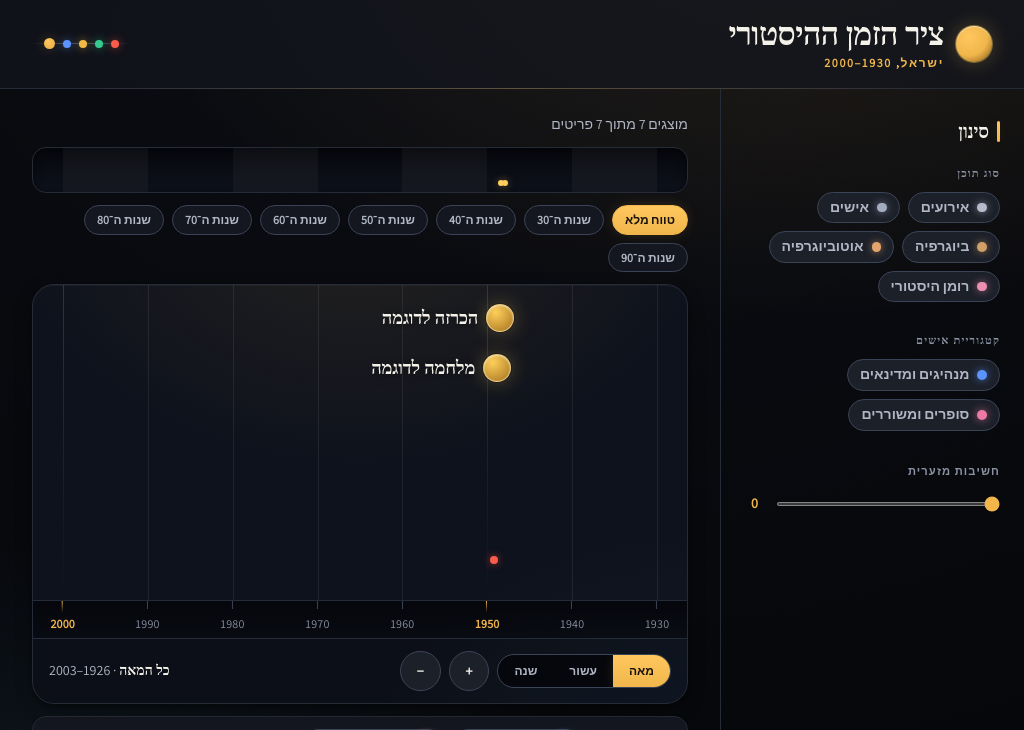
Scenario: FilterBar › toggling the person content-type chip narrows the timeline to people
Expected: the button "מלחמה לדוגמה" is shown, [359,345,511,391]
Click the button "אישים" at (858,208), box [817,192,900,223]
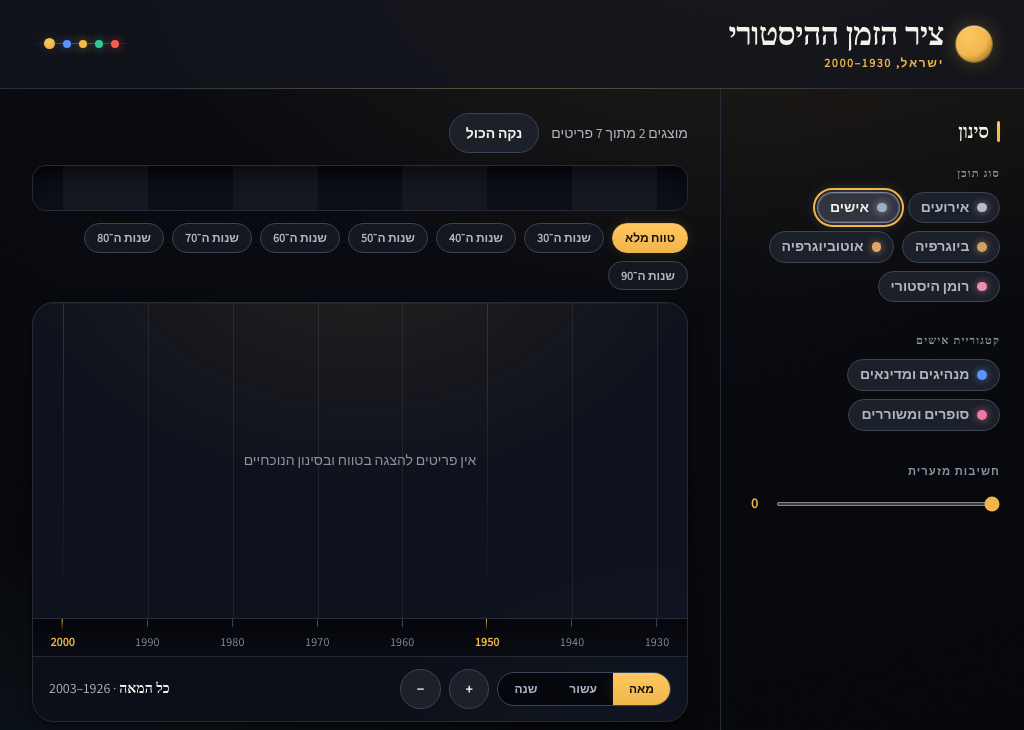
Expected: the button "מלחמה לדוגמה" is gone
